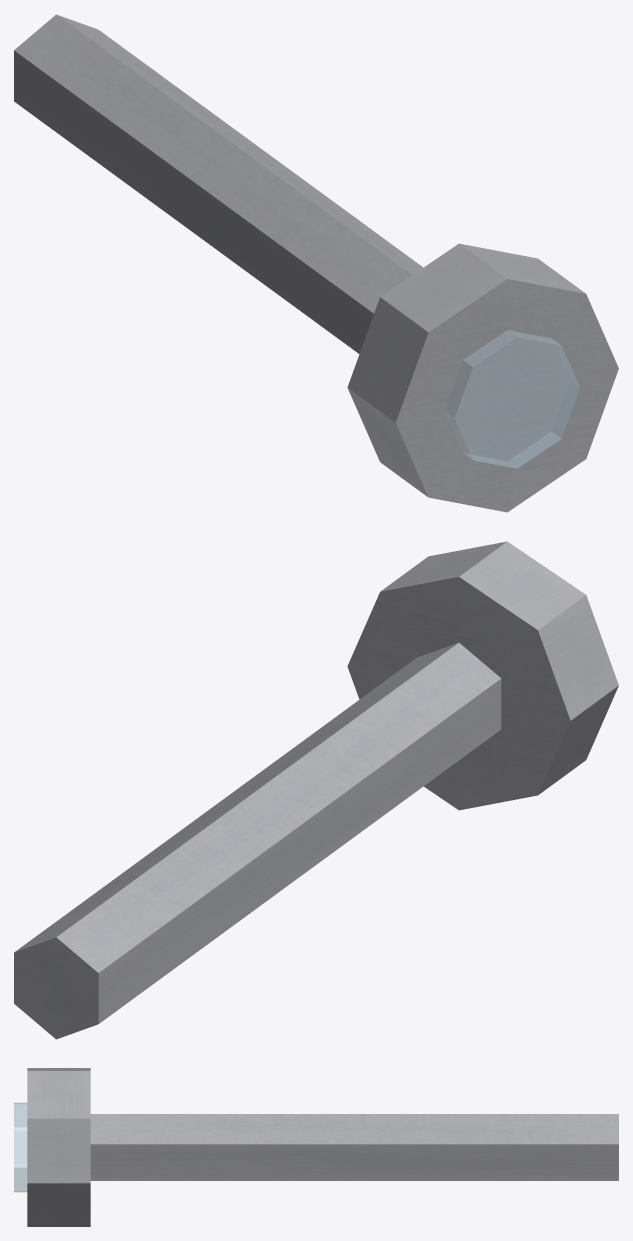
File: Door_Peephole.fbx
3 renders of one model, top to bottom at view 1: azimuth 30°, elevation 25°; view 2: azimuth 150°, elevation 25°; view 3: azimuth 270°, elevation 25°, orthographic. The views are drawn at different scales.
Visible parts, largest first — view 1: Door_Peephole; view 2: Door_Peephole; view 3: Door_Peephole.
Part boxes in pixels (box(x1,y1,x2,y2)): Door_Peephole: box(14, 14, 618, 512); Door_Peephole: box(14, 541, 618, 1039); Door_Peephole: box(14, 1068, 618, 1226).
Size of the model in its own units: 0.032 by 0.032 by 0.1145.
